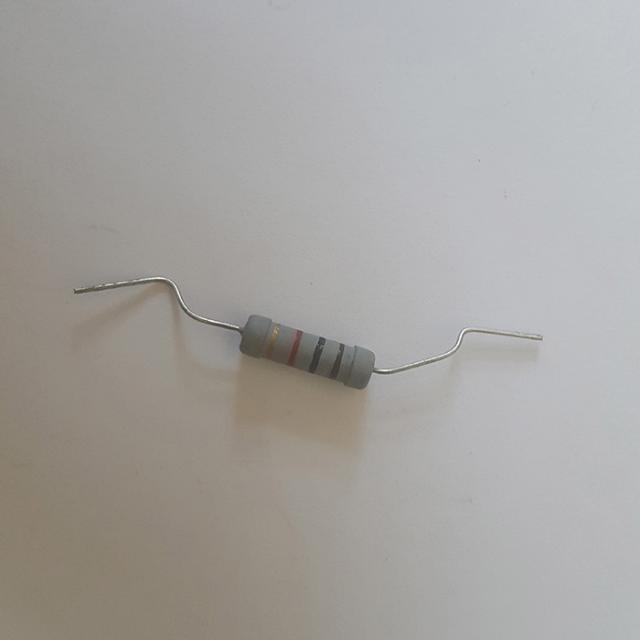black: (309, 336, 324, 373)
brown: (331, 343, 345, 378)
gold: (268, 323, 279, 359)
red: (289, 331, 303, 365)
resistor: (229, 303, 385, 399)
